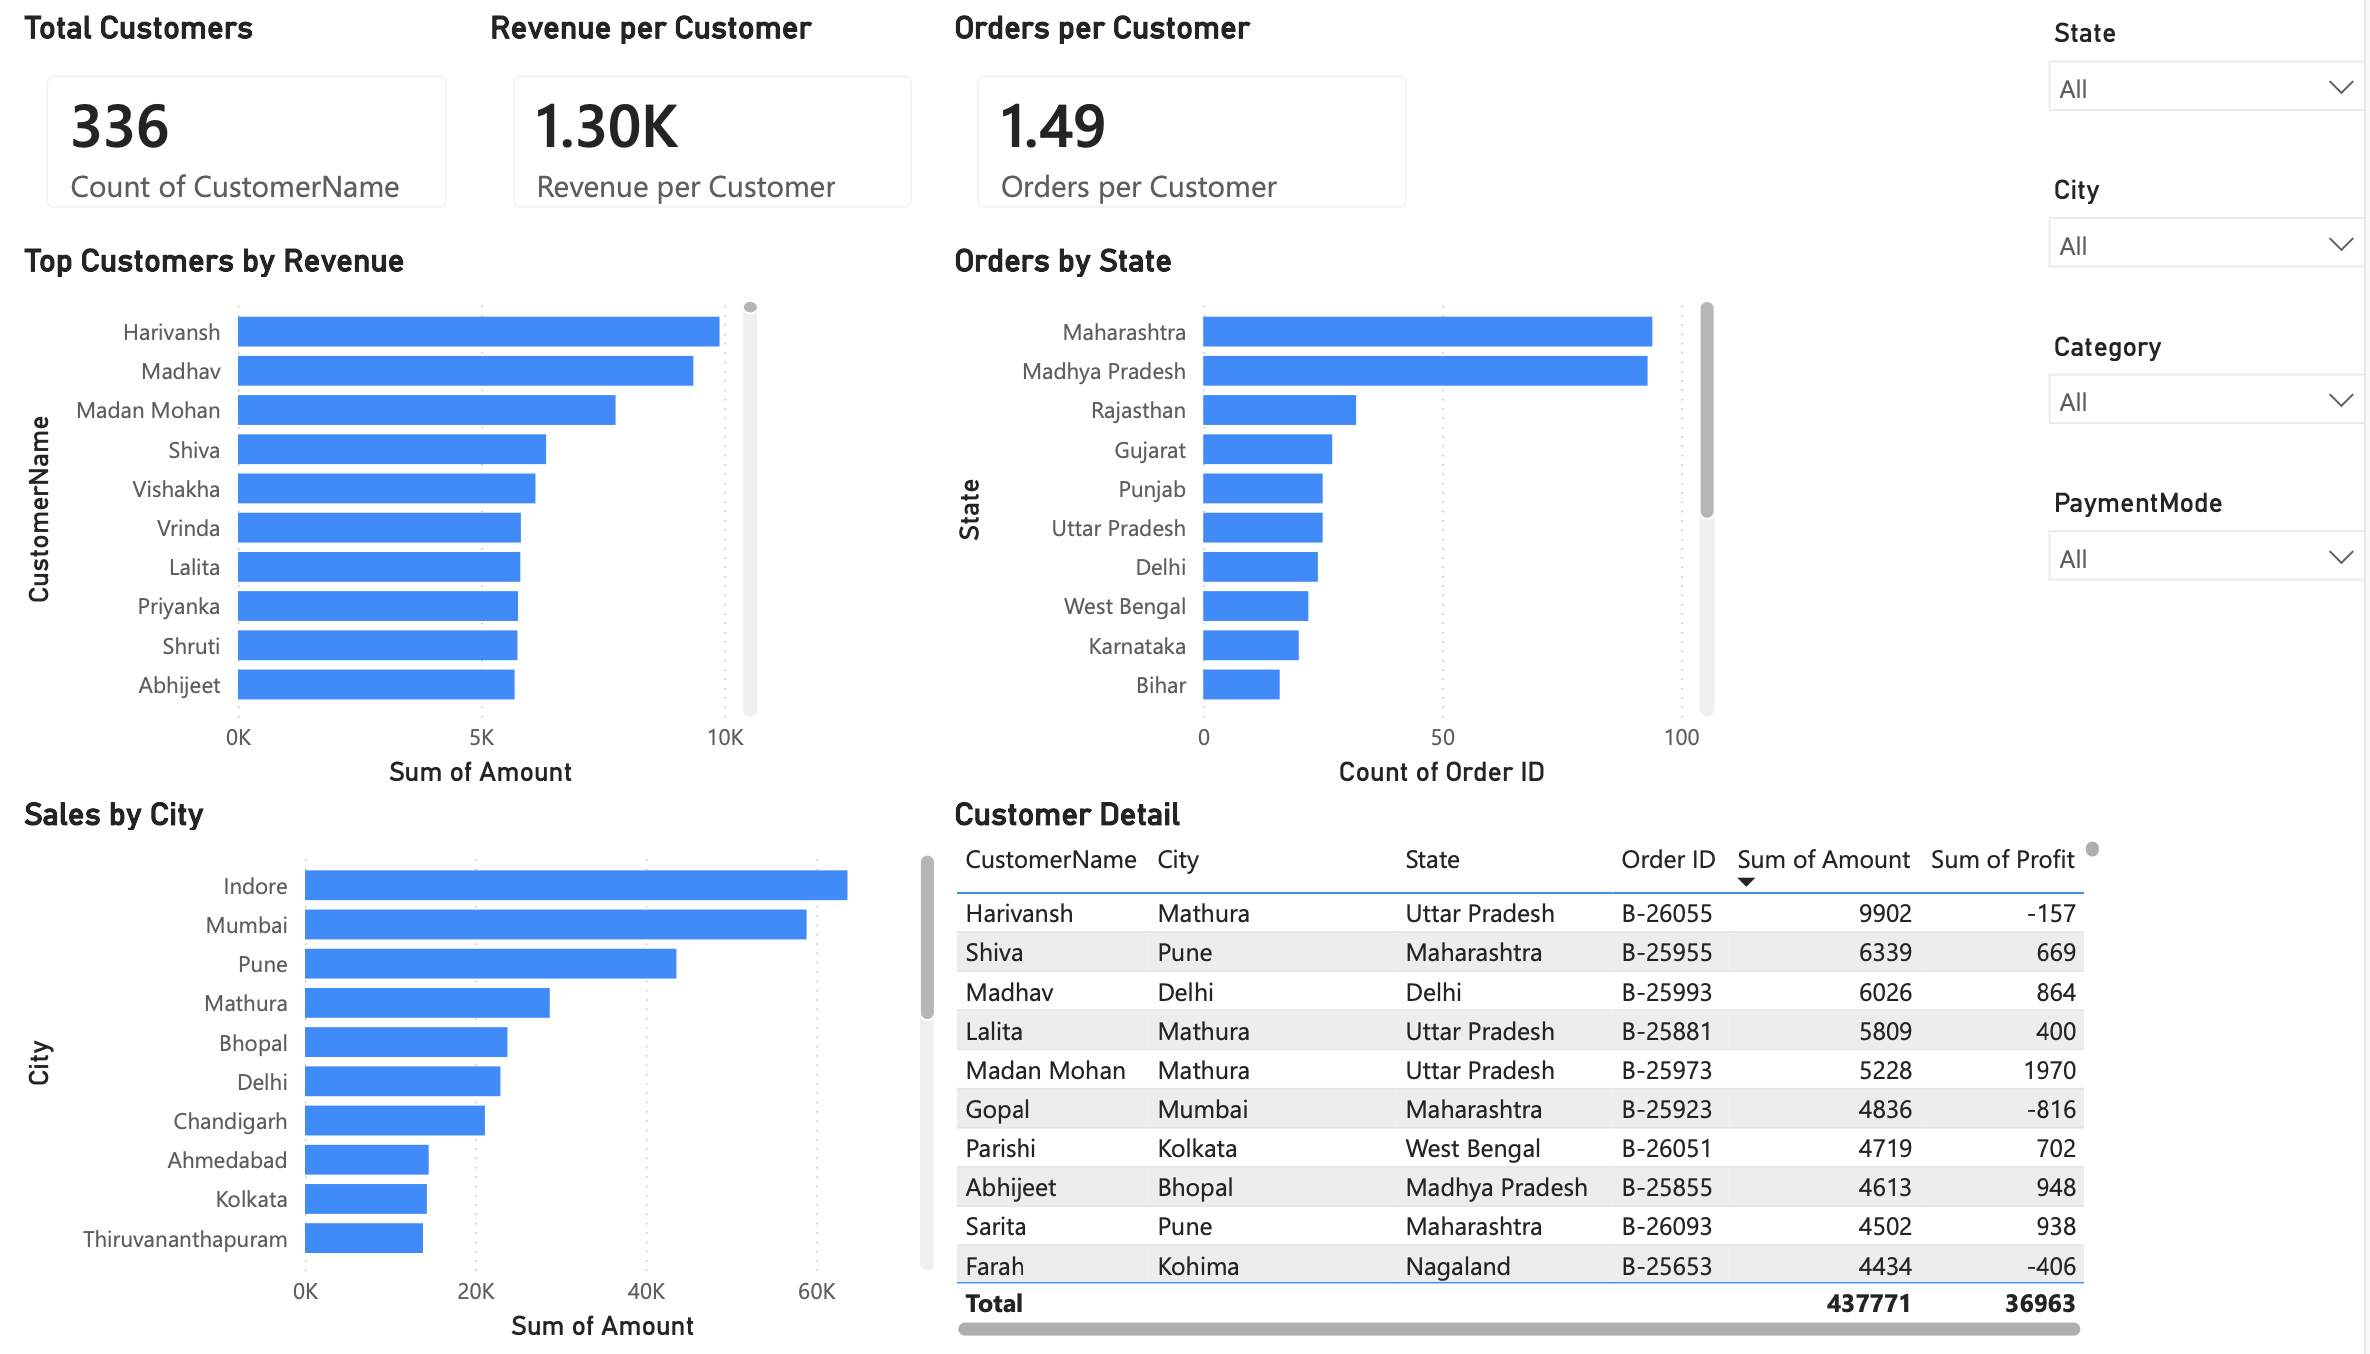

What the dashboard file says about the page in this screenshot:
{"tool":"powerbi","page":{"name":"Customer Insights","canvas":[1280,720],"ordinal":2},"visuals":[{"type":"cardVisual","title":"Total Customers","fields":{"Data":["Count(Orders.CustomerName)"]},"box":[9.5,0,250,125],"z":0},{"type":"cardVisual","title":"Revenue per Customer","fields":{"Data":["Details.Revenue per Customer"]},"box":[259.5,0,248.4,125],"z":1},{"type":"cardVisual","title":"Orders per Customer","fields":{"Data":["Details.Orders per Customer"]},"box":[507.9,0,265.8,125],"z":2},{"type":"barChart","title":"Top Customers by Revenue","fields":{"Category":["Orders.CustomerName"],"Y":["Sum(Details.Amount)"]},"box":[9.5,125,403.5,297.5],"z":3},{"type":"barChart","title":"Sales by City","fields":{"Category":["Orders.City"],"Y":["Sum(Details.Amount)"]},"box":[9.5,422.4,498.4,297.5],"z":4},{"type":"barChart","title":"Orders by State","fields":{"Category":["Orders.State"],"Y":["Count(Orders.Order ID)"]},"box":[507.9,125,417.7,297.5],"z":5},{"type":"tableEx","title":"Customer Detail","fields":{"Values":["Orders.CustomerName","Orders.City","Orders.State","Orders.Order ID","Sum(Details.Amount)","Sum(Details.Profit)"]},"box":[507.9,422.4,625,295.9],"z":6},{"type":"slicer","fields":{"Values":["Orders.State"]},"box":[1090.1,0,189.9,83.9],"z":7},{"type":"slicer","fields":{"Values":["Orders.City"]},"box":[1090.1,83.9,189.9,83.9],"z":8},{"type":"slicer","fields":{"Values":["Details.Category"]},"box":[1090.1,167.7,189.9,83.9],"z":9},{"type":"slicer","fields":{"Values":["Details.PaymentMode"]},"box":[1090.1,251.6,189.9,83.9],"z":10}]}

Visuals, with their boxes in screenshot pixels (x1, y1, x2, y2), scaled from the page's 1280x720 canvas onto the 2370x1354 screenshot:
"Total Customers" cardVisual: left=18, top=0, right=480, bottom=235
"Revenue per Customer" cardVisual: left=480, top=0, right=940, bottom=235
"Orders per Customer" cardVisual: left=940, top=0, right=1433, bottom=235
"Top Customers by Revenue" barChart: left=18, top=235, right=765, bottom=795
"Sales by City" barChart: left=18, top=794, right=940, bottom=1353
"Orders by State" barChart: left=940, top=235, right=1714, bottom=795
"Customer Detail" tableEx: left=940, top=794, right=2098, bottom=1351
slicer - Orders.State: left=2018, top=0, right=2369, bottom=158
slicer - Orders.City: left=2018, top=158, right=2369, bottom=316
slicer - Details.Category: left=2018, top=315, right=2369, bottom=473
slicer - Details.PaymentMode: left=2018, top=473, right=2369, bottom=631
